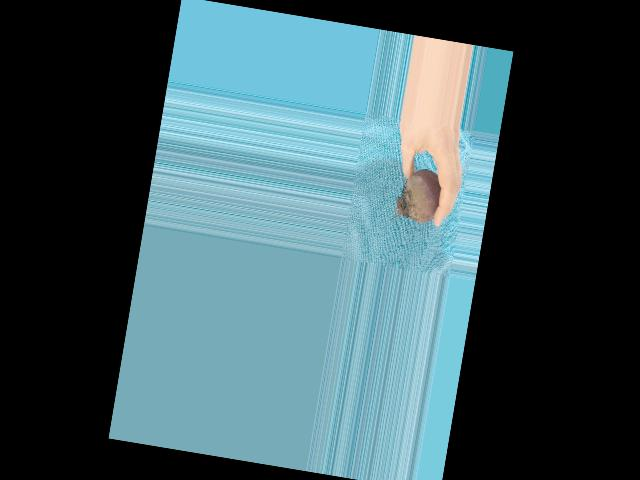beet: (392, 165, 443, 225)
